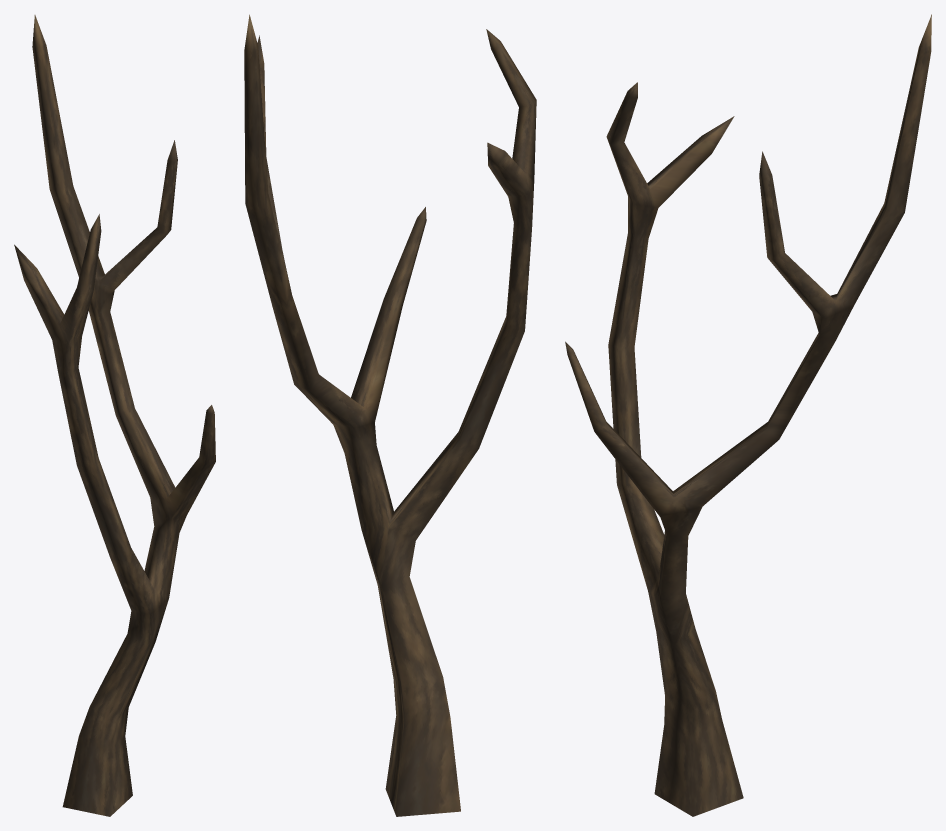
Rendered from Tree_Bare_5.fbx.
The picture shows the model from 3 angles, left to right: view 1: azimuth 30°, elevation 25°; view 2: azimuth 150°, elevation 25°; view 3: azimuth 270°, elevation 25°; orthographic projection. The views are drawn at different scales.
Parts seen in each view (by area): view 1: Cube.083; view 2: Cube.083; view 3: Cube.083.
Boxes of the visible parts, <box> form: Cube.083: <box>14,15,215,816</box>; Cube.083: <box>244,14,536,816</box>; Cube.083: <box>565,14,931,816</box>.
Bounding box in the file's own units: 157 × 592 × 244.
1 material, 1 textured.
